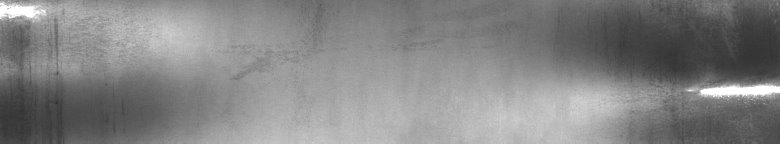ke: (629, 4, 776, 128)
